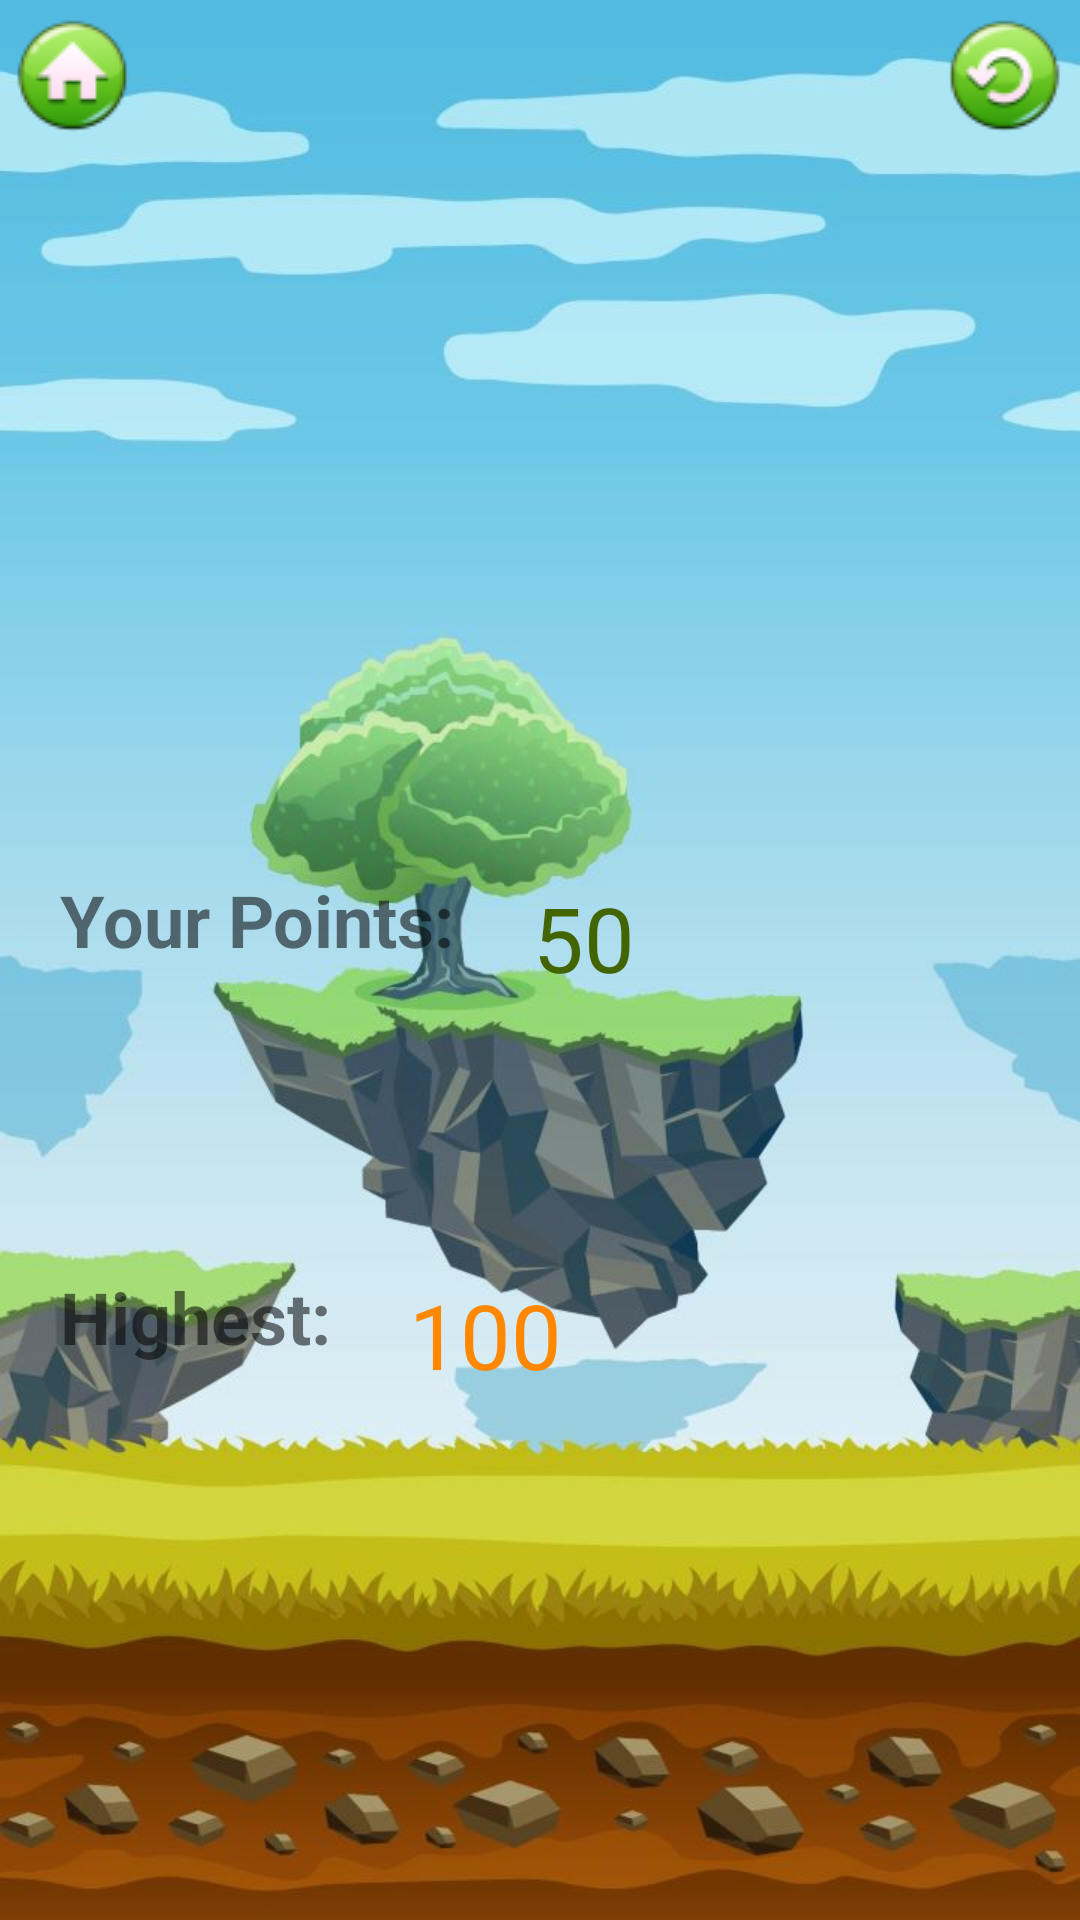

Named icons in this screenshot (1080×1920) and their bounding boxes, (x1, y1, x2, y2):
again: (930, 0, 1080, 130)
home: (0, 0, 150, 130)
